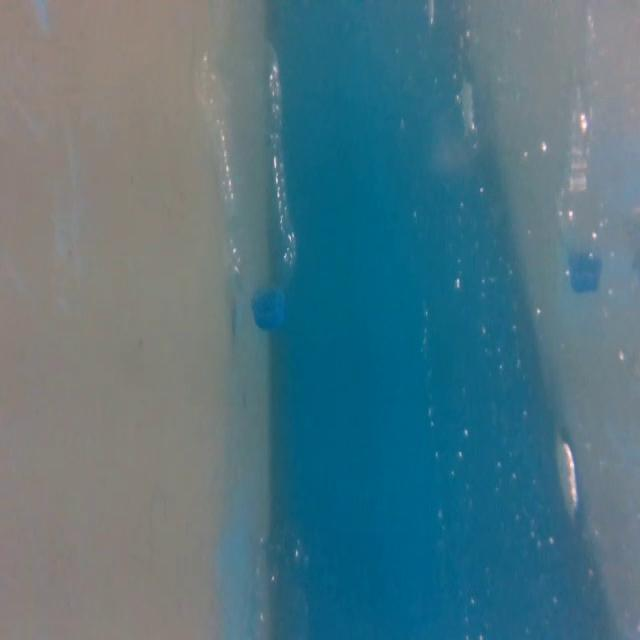plastic bottle: (188, 33, 308, 340)
